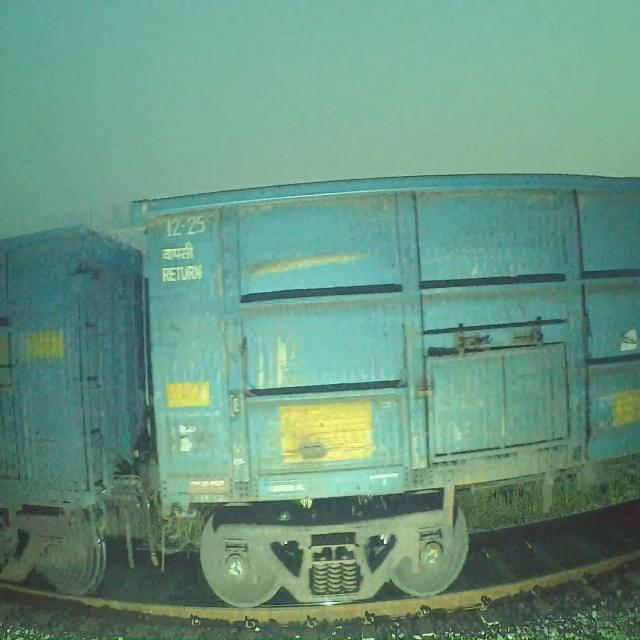WAgon-uic: (127, 169, 640, 615), (0, 218, 196, 600)
